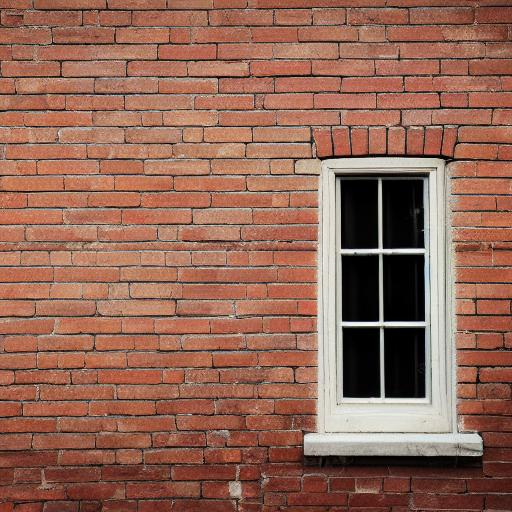Window: (304, 127, 483, 459)
